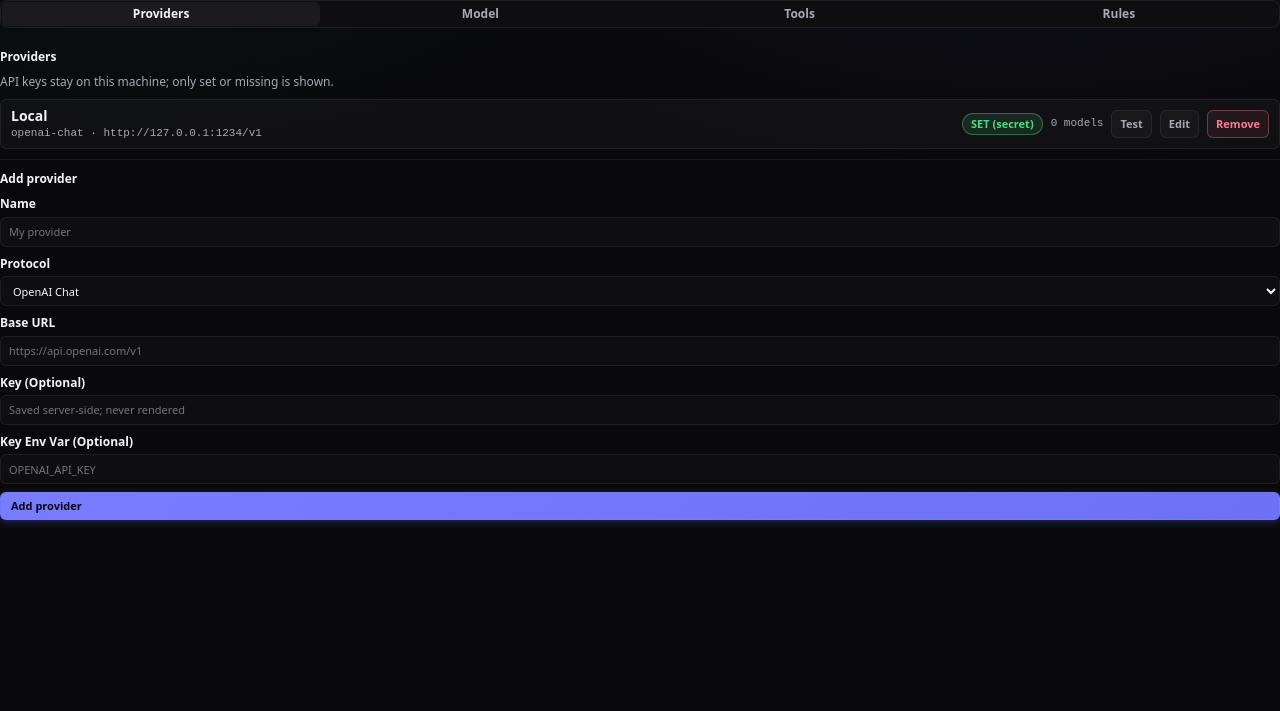
it: settings provider editing › updates a provider in place without removing it
Click the button with test id "edit-provider-local" at x=1179, y=124, box [1160,110,1199,138]
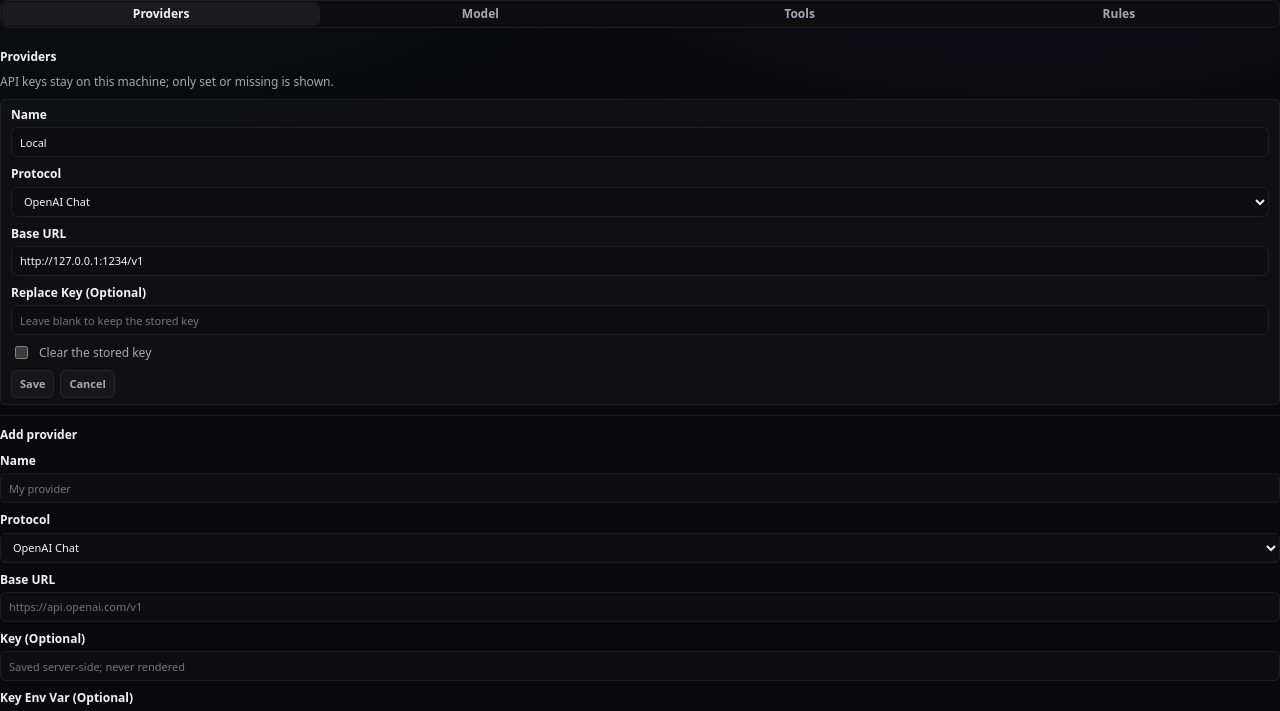
Expected: the field with test id "edit-provider-name" holds "Local"
Replace the text in the field with test id "edit-provider-name" with "Local server" at x=640, y=142, box [11,127,1269,157]
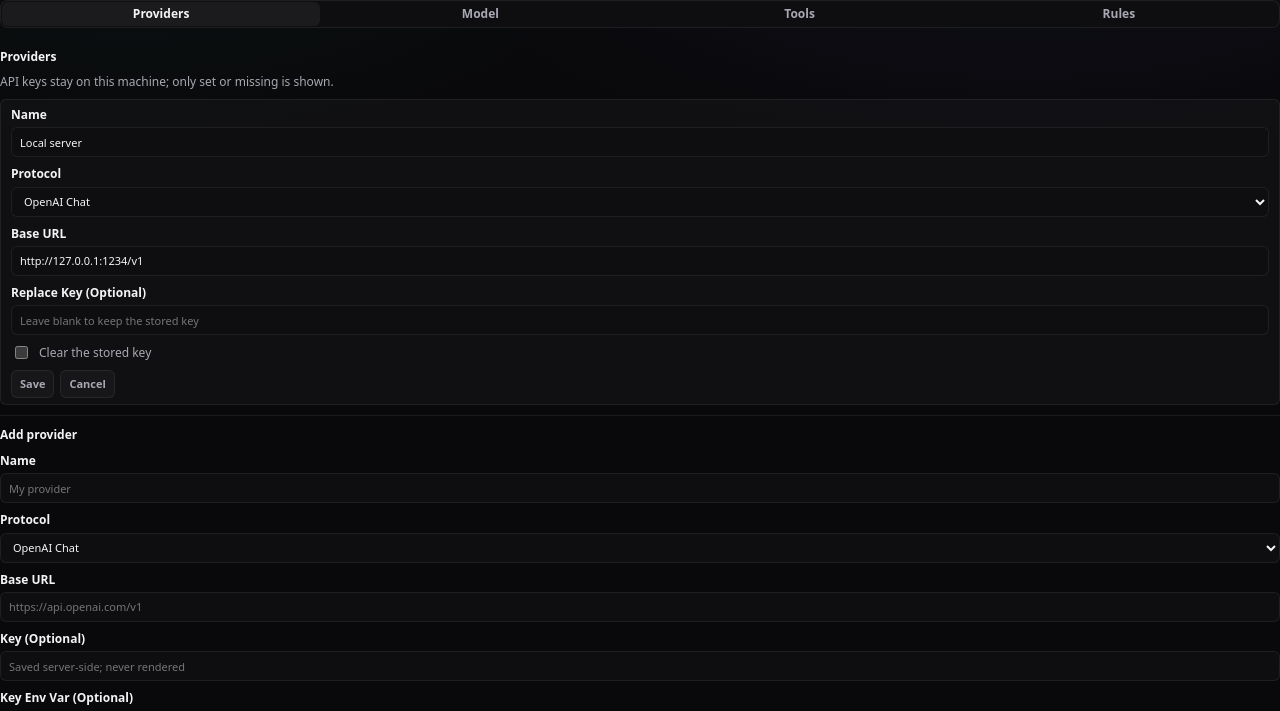
Replace the text in the field with test id "edit-provider-url" with "http://127.0.0.1:4321/v1" at x=640, y=261, box [11,246,1269,276]
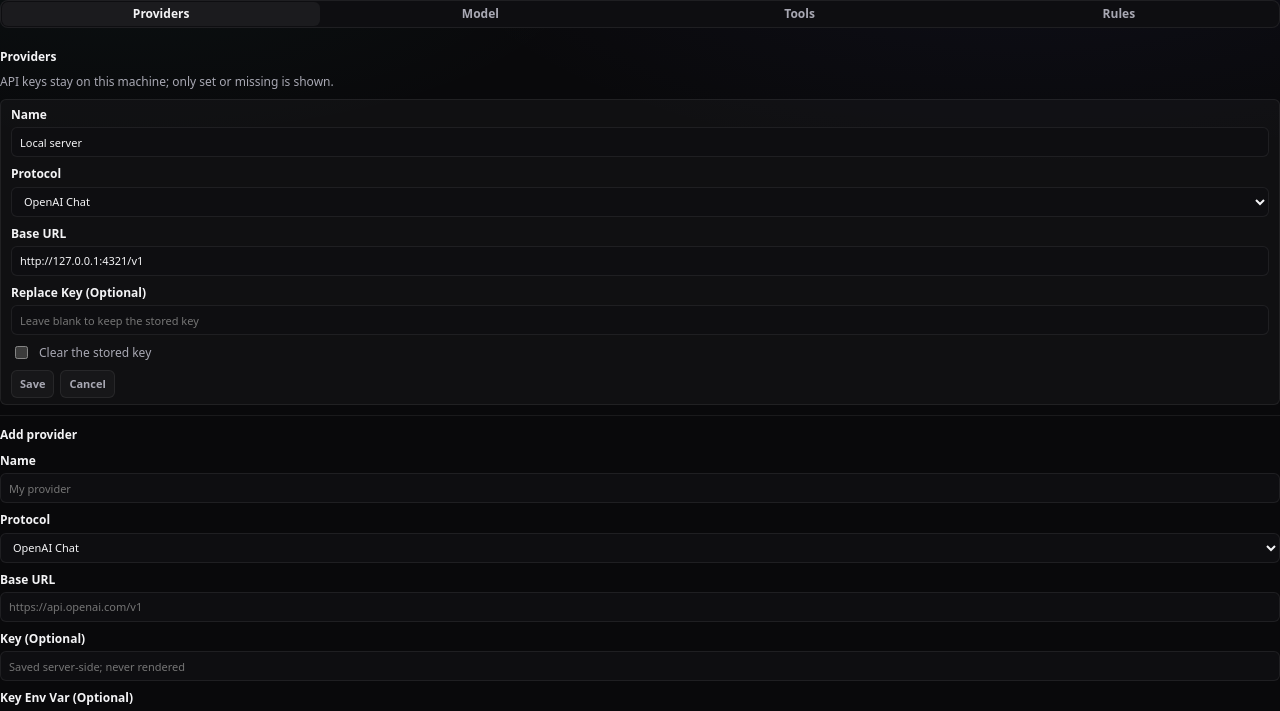
Type "sk-new" into the password field with test id "edit-provider-key" at x=640, y=320, box [11,305,1269,335]
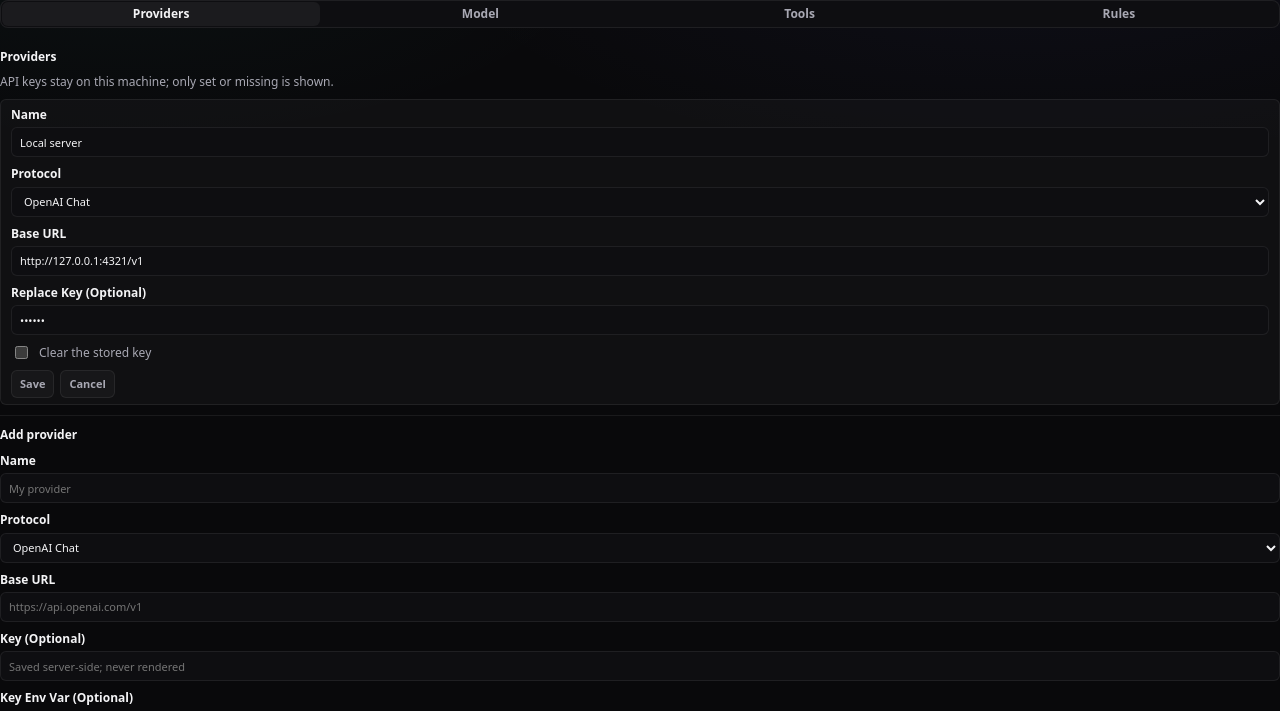
Click the button with test id "save-provider-edit" at x=33, y=384, box [11,370,54,398]
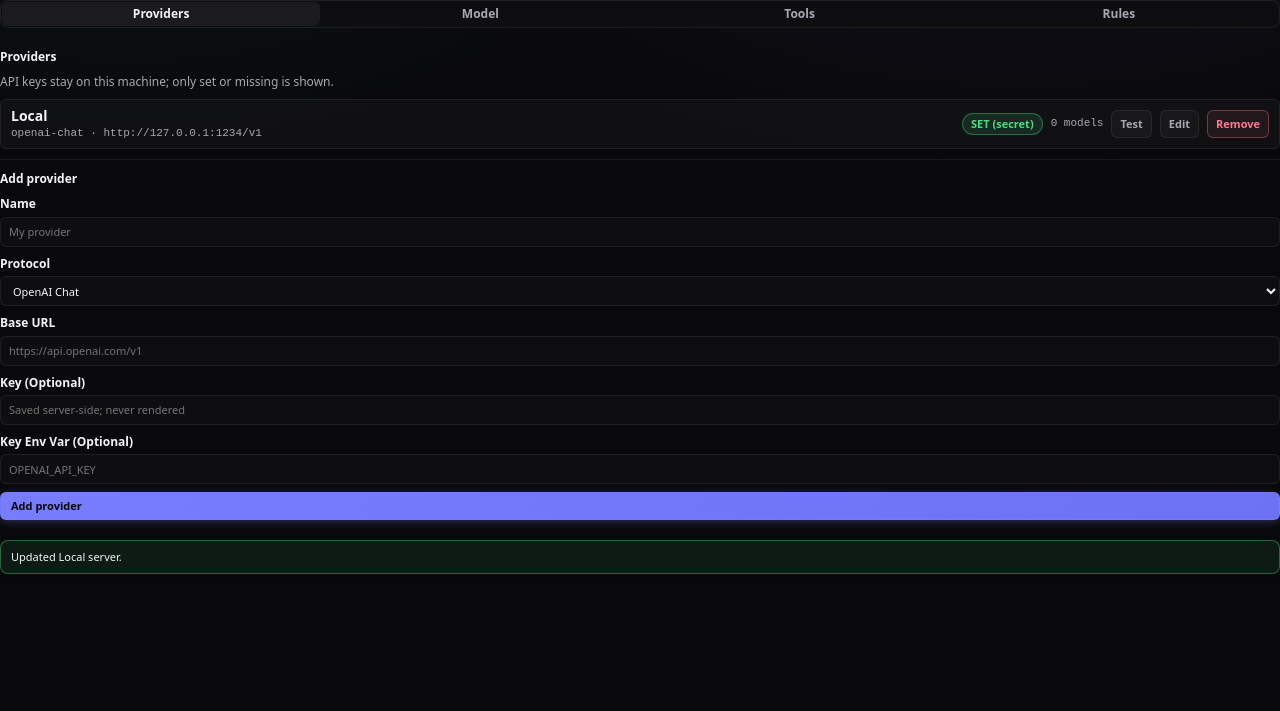
Expected: the message "Updated Local server." is shown, [0,540,1279,574]
Expected: the form with test id "provider-edit" is gone
